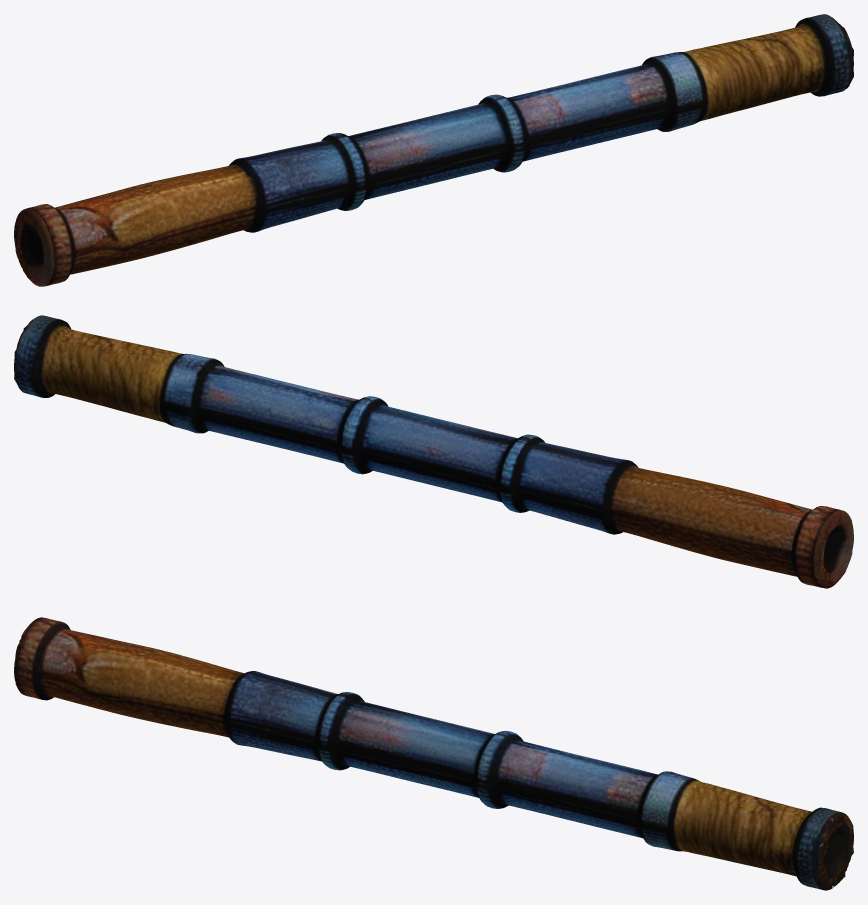
The model's file is source-16.glb.
3 renders of one model, top to bottom at view 1: azimuth 30°, elevation 25°; view 2: azimuth 150°, elevation 25°; view 3: azimuth 330°, elevation 25°, orthographic.
Visible parts, largest first — view 1: tmpgb44awdp.ply; view 2: tmpgb44awdp.ply; view 3: tmpgb44awdp.ply.
Part boxes in pixels (<box>): tmpgb44awdp.ply: <box>14,14,853,286</box>; tmpgb44awdp.ply: <box>14,315,853,588</box>; tmpgb44awdp.ply: <box>14,617,853,890</box>.
Bounding box in the file's own units: 1.97 × 0.1709 × 0.1684.
Materials: 1 (1 with a texture image).
